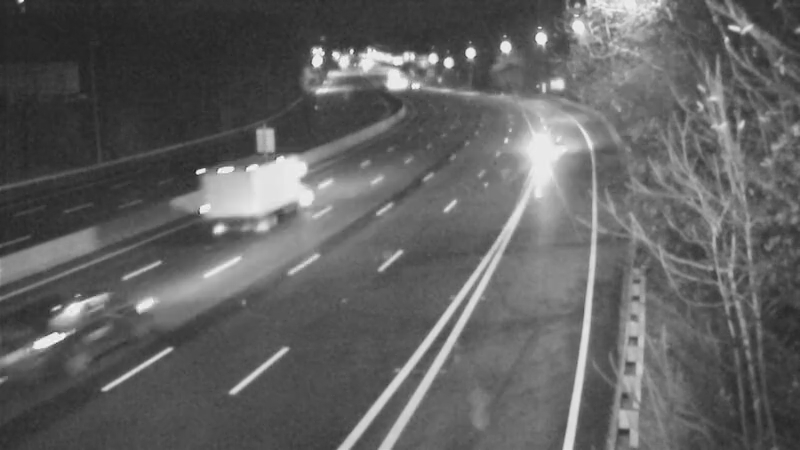vehicle: (38, 272, 148, 382), (216, 144, 296, 224), (392, 59, 442, 109), (526, 114, 576, 164)
